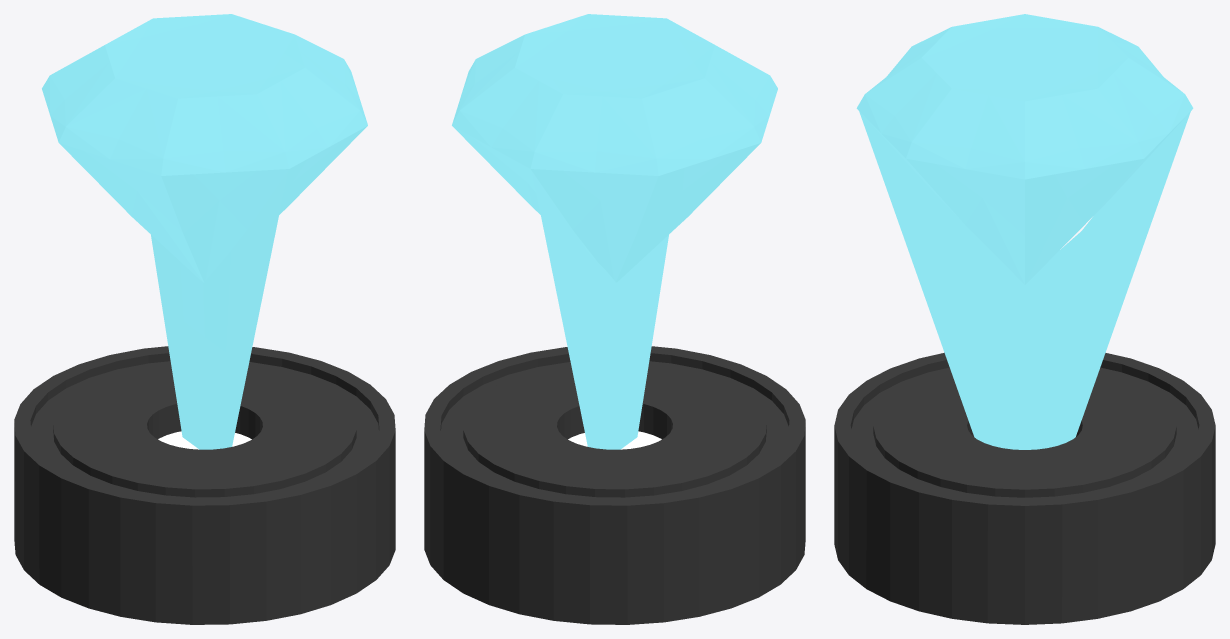
Rendered from diamond_hologram.glb.
3 renders of one model, left to right at view 1: azimuth 30°, elevation 25°; view 2: azimuth 150°, elevation 25°; view 3: azimuth 270°, elevation 25°, orthographic.
Visible parts, largest first — view 1: Hologram Machine, Diamond, Light Beam; view 2: Hologram Machine, Diamond, Light Beam; view 3: Hologram Machine, Diamond, Light Beam.
Boxes of the visible parts, x1,y1,x2,y2 form: Hologram Machine: (14, 346, 395, 624); Diamond: (42, 14, 367, 282); Light Beam: (151, 171, 287, 449); Hologram Machine: (424, 346, 805, 624); Diamond: (452, 14, 777, 282); Light Beam: (532, 171, 668, 449); Hologram Machine: (834, 352, 1215, 624); Diamond: (856, 14, 1193, 284); Light Beam: (859, 111, 1190, 449).
Bounding box in the file's own units: 0.25 × 0.37 × 0.25.
